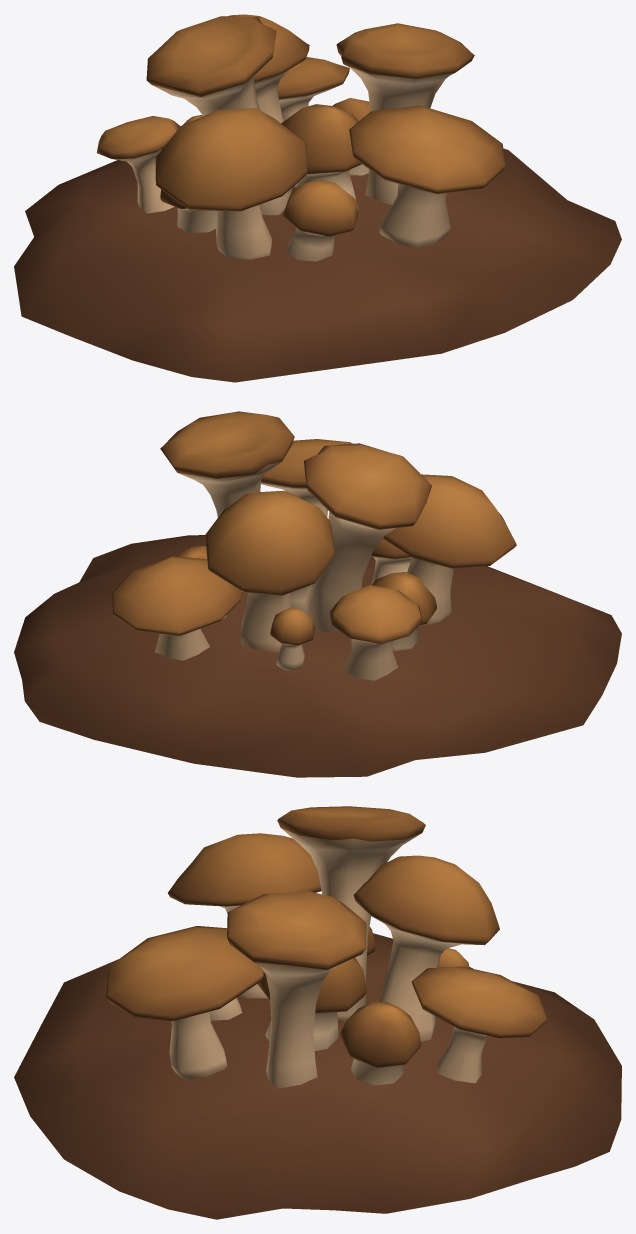
Rendered from SM_PlantSoil_PorciniMushroom_Lv3.fbx.
3 renders of one model, top to bottom at view 1: azimuth 30°, elevation 25°; view 2: azimuth 150°, elevation 25°; view 3: azimuth 270°, elevation 25°, orthographic. The views are drawn at different scales.
Parts seen in each view (by area): view 1: SM_PlantSoil_PorciniMushroom_Lv3; view 2: SM_PlantSoil_PorciniMushroom_Lv3; view 3: SM_PlantSoil_PorciniMushroom_Lv3.
Part boxes in pixels (left/top/right/bottom): SM_PlantSoil_PorciniMushroom_Lv3: left=14, top=14, right=621, bottom=382; SM_PlantSoil_PorciniMushroom_Lv3: left=14, top=411, right=621, bottom=777; SM_PlantSoil_PorciniMushroom_Lv3: left=14, top=806, right=621, bottom=1219.
Bounding box in the file's own units: 118 × 47.21 × 106.
